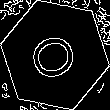O_E: (25, 26, 85, 84)
